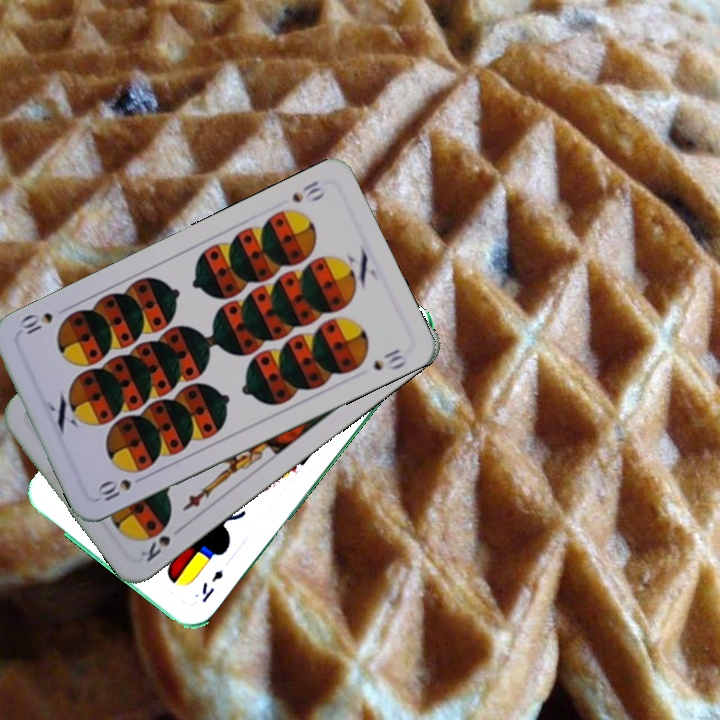EK: (197, 566, 226, 606)
S10: (93, 471, 150, 506), (287, 176, 327, 206)
SK: (136, 531, 173, 565)
